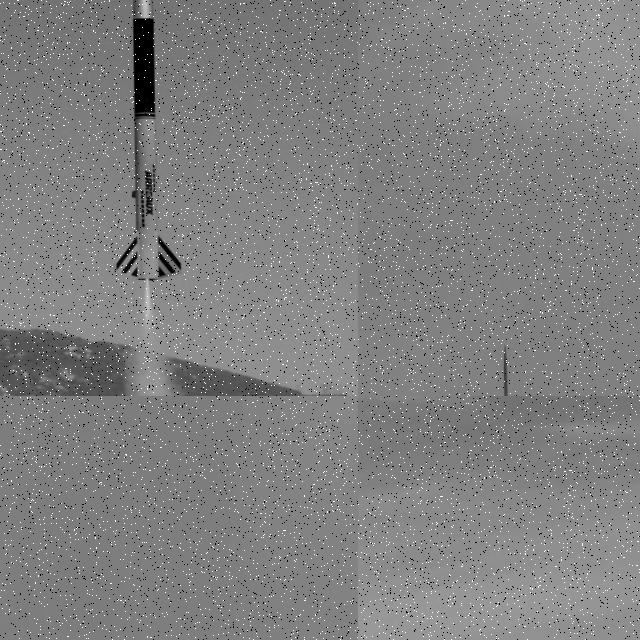Rocket: (112, 0, 185, 283), (500, 343, 512, 396)
